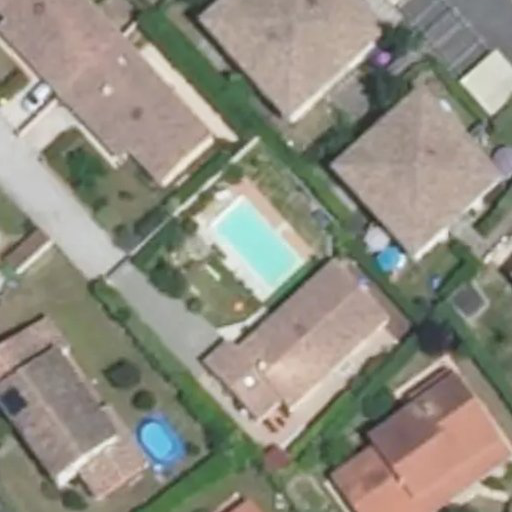pool: (206, 220, 305, 263)
